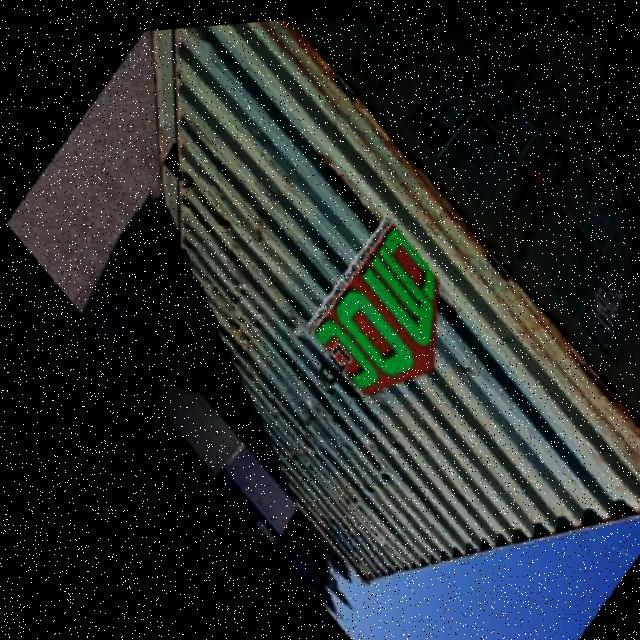rust: (537, 307, 627, 437), (219, 282, 276, 360), (196, 179, 244, 246), (311, 363, 365, 415), (265, 397, 300, 436)
